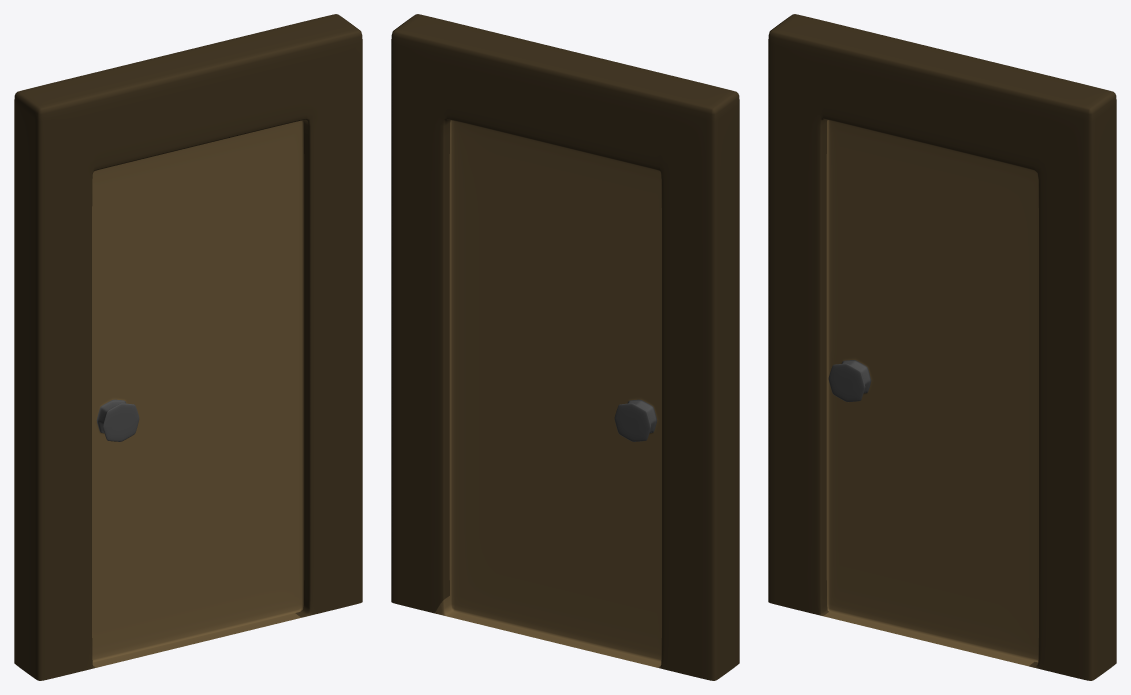
The model's file is Door.fbx.
The picture shows the model from 3 angles, left to right: view 1: azimuth 30°, elevation 25°; view 2: azimuth 150°, elevation 25°; view 3: azimuth 330°, elevation 25°; orthographic projection.
Parts seen in each view (by area): view 1: Door; view 2: Door; view 3: Door.
Boxes of the visible parts, x1,y1,x2,y2 form: Door: (14, 14, 362, 680); Door: (391, 14, 739, 680); Door: (768, 14, 1116, 680).
Bounding box in the file's own units: 3 × 5.03 × 0.4733.
